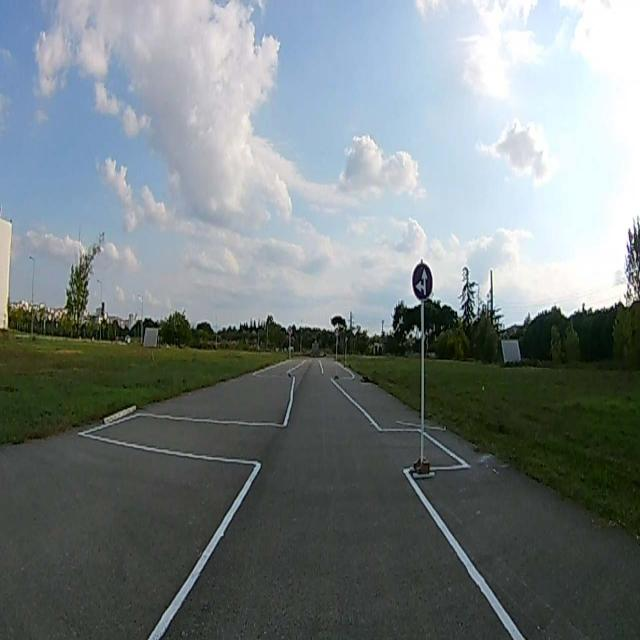ilerisol: (412, 264, 432, 300)
